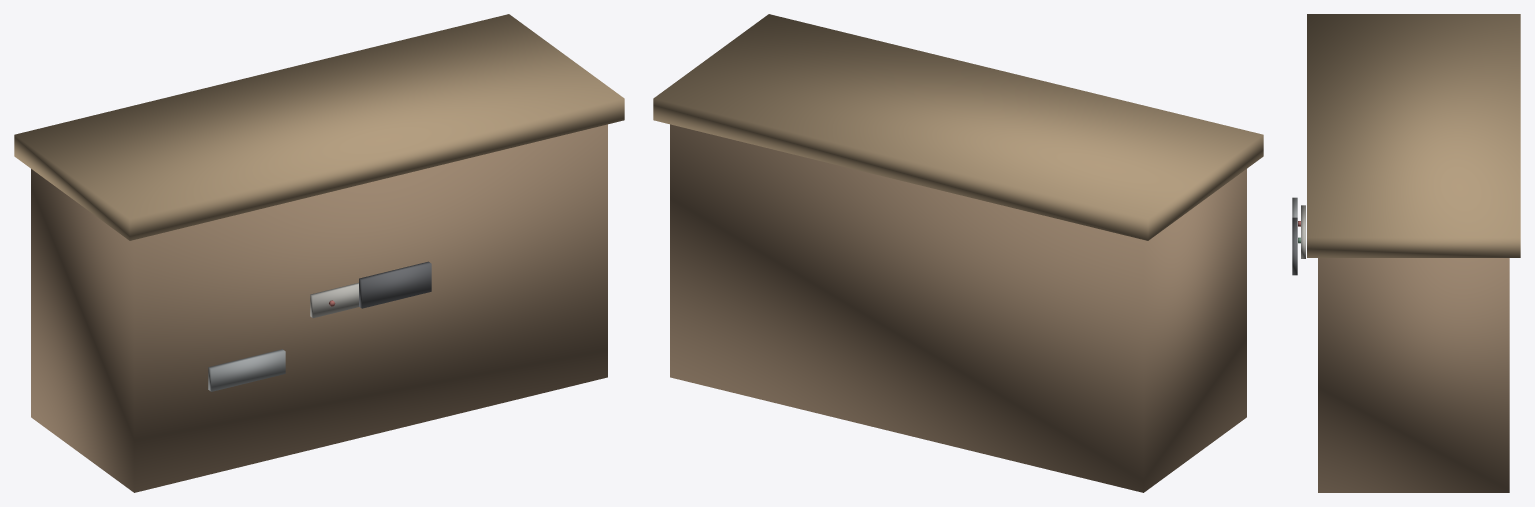
File: host_stand__weathered.glb
3 renders of one model, left to right at view 1: azimuth 30°, elevation 25°; view 2: azimuth 150°, elevation 25°; view 3: azimuth 270°, elevation 25°, orthographic. The views are drawn at different scales.
Parts seen in each view (by area): view 1: world; view 2: world; view 3: world.
Boxes of the visible parts, bbox=[...] form: world: bbox=[14, 14, 624, 492]; world: bbox=[653, 14, 1263, 492]; world: bbox=[1292, 14, 1520, 492].
Size of the model in its own units: 1.88 by 1.02 by 0.812.
